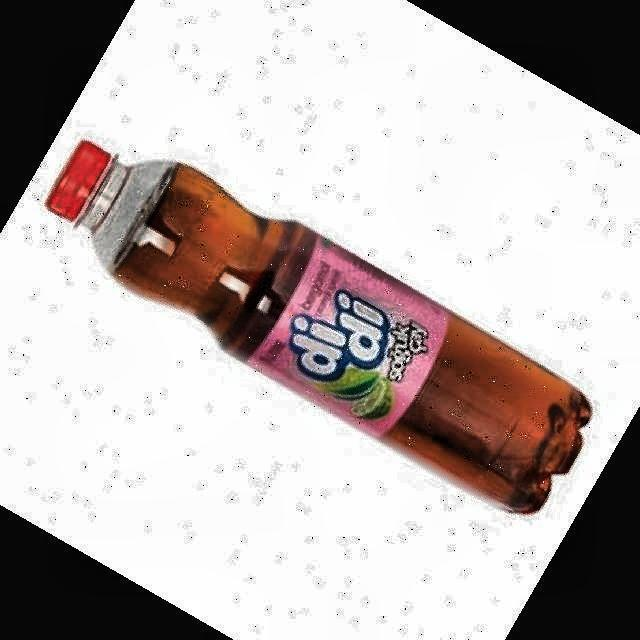plastic: (46, 140, 591, 513)
